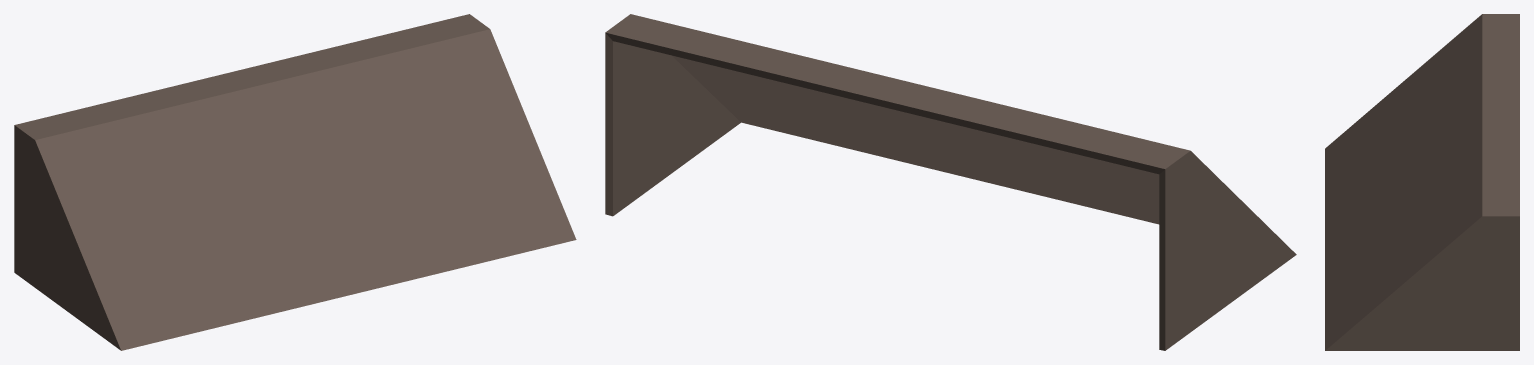
File: CanvasStoreFront.fbx.glb
3 views of the same model, side by side, from view 1: azimuth 30°, elevation 25°; view 2: azimuth 150°, elevation 25°; view 3: azimuth 270°, elevation 25° (orthographic). The views are drawn at different scales.
Parts seen in each view (by area): view 1: CanvasStoreFront.1; view 2: CanvasStoreFront.1; view 3: CanvasStoreFront.1.
Boxes of the visible parts, x1,y1,x2,y2 form: CanvasStoreFront.1: (14, 14, 576, 350); CanvasStoreFront.1: (605, 14, 1296, 350); CanvasStoreFront.1: (1325, 14, 1519, 350).
Size of the model in its own units: 343 by 107 by 140.
